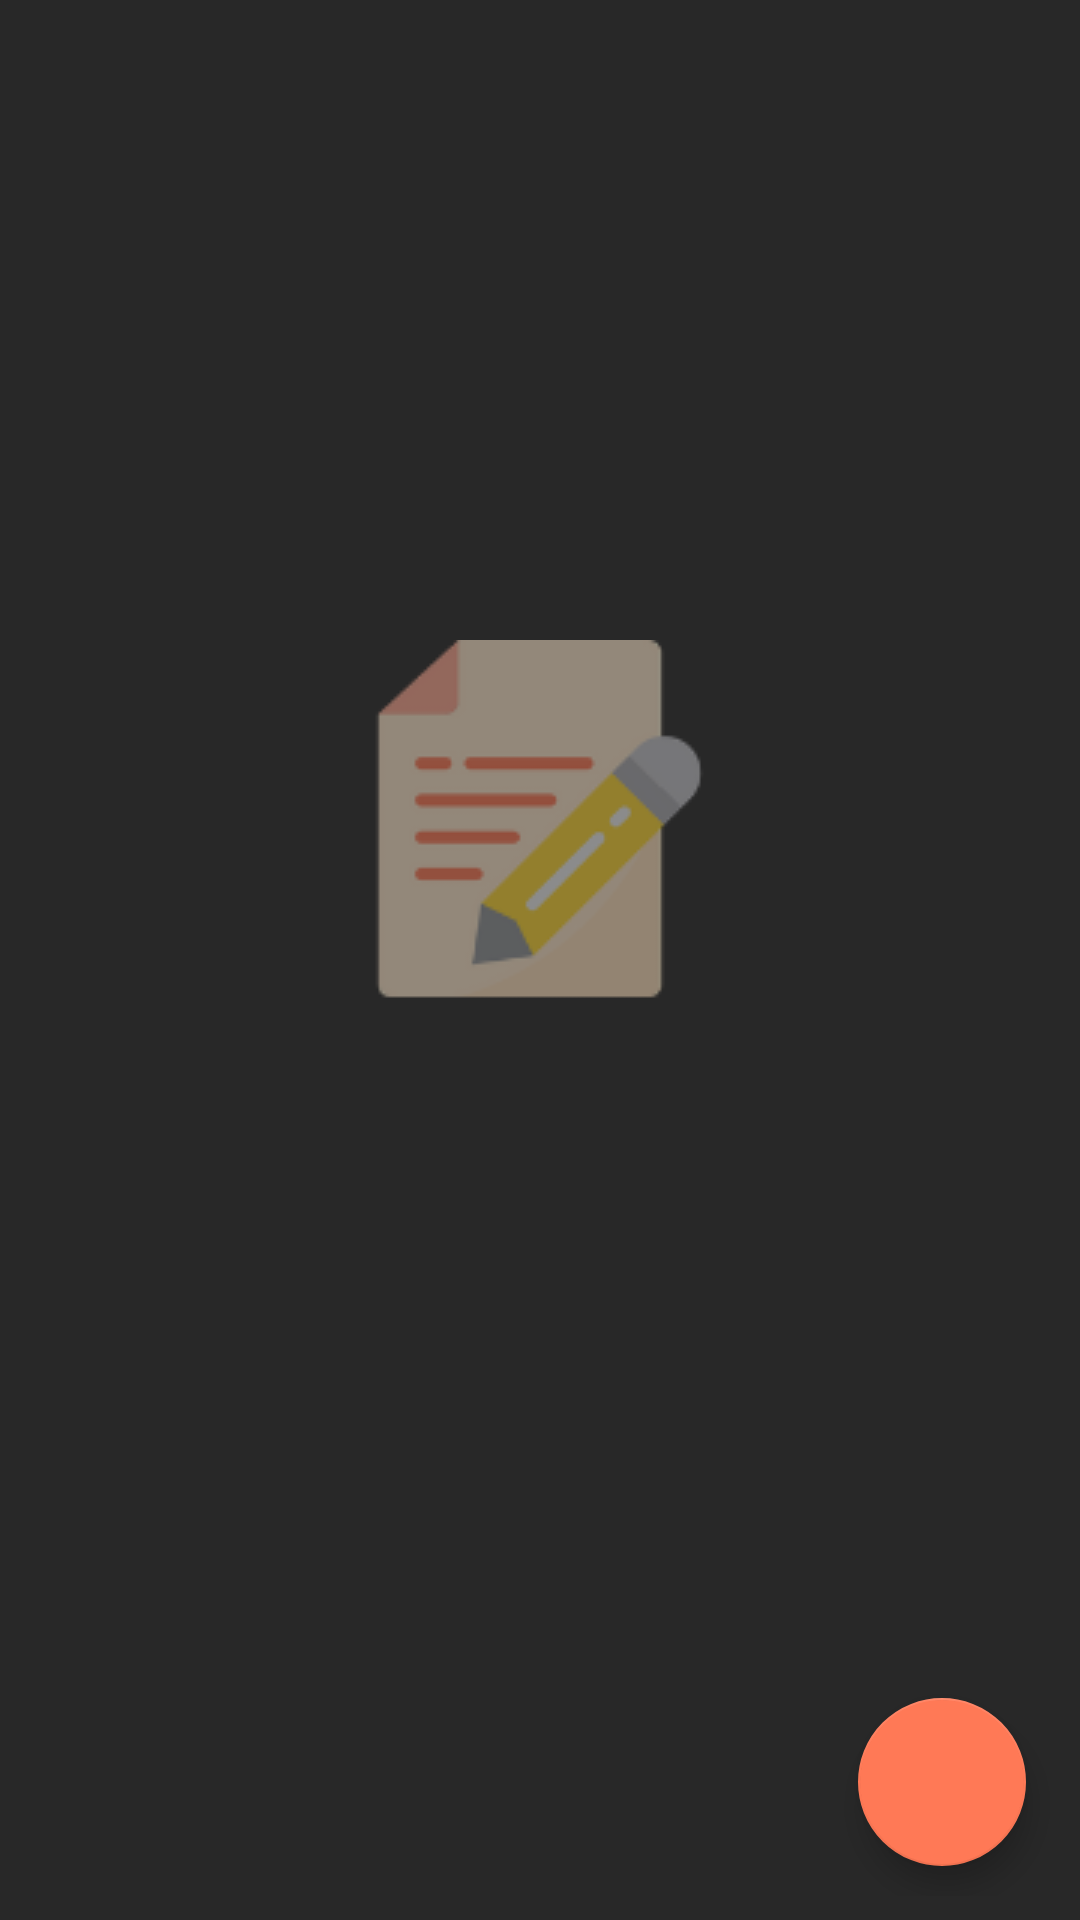

Screen size 1080x1920. Icon name, then its center in pixels as point (x, y):
notebgg: point (539, 819)
